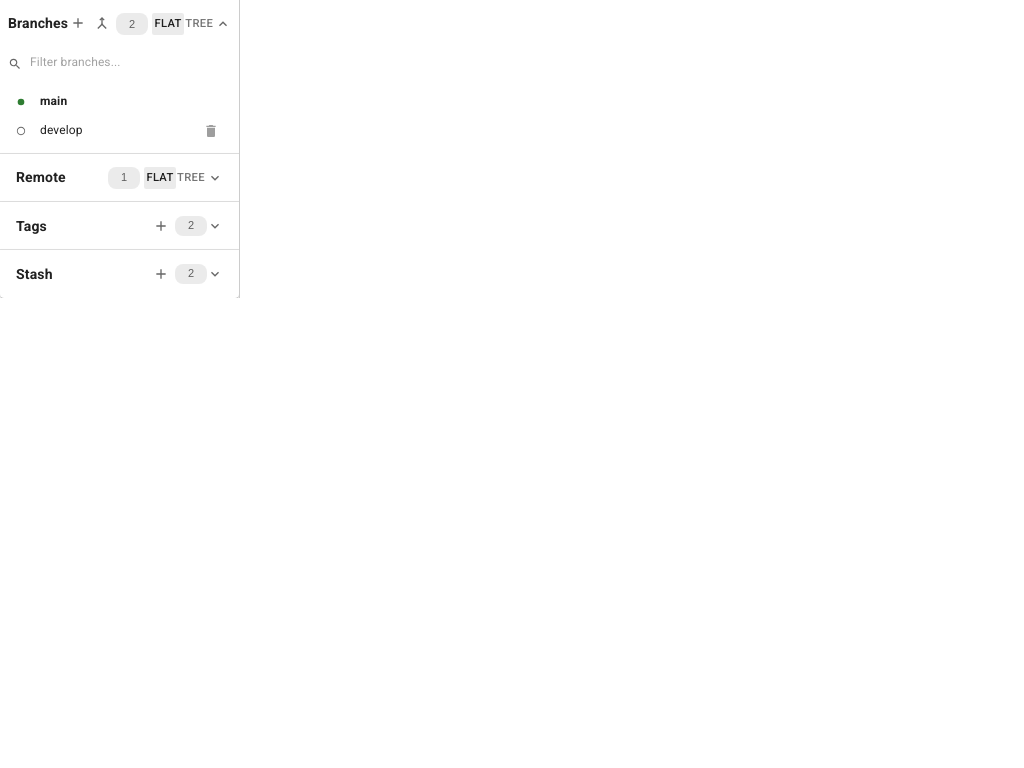
Test: clicking delete on branch shows confirm dialog
Click the icon with test id "DeleteIcon". click: click(211, 131)
box: 203,123 -> 219,139
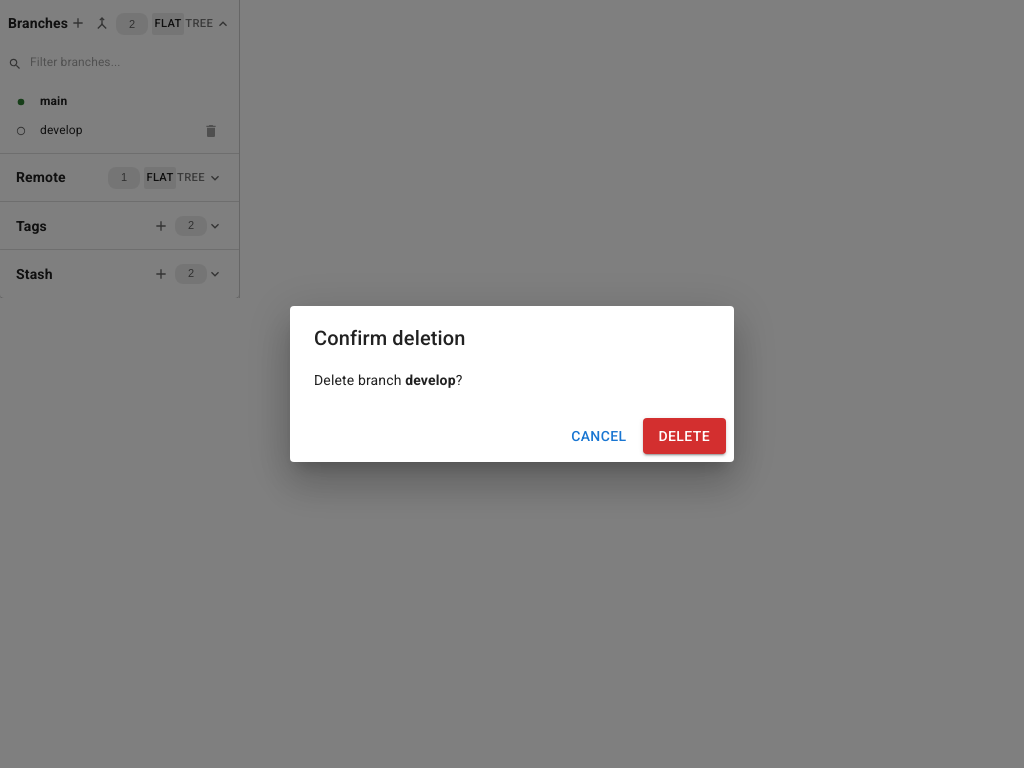
Now the dialog shows "Delete", box 314,372 -> 358,388
Now the dialog shows "develop", box 405,372 -> 456,388
